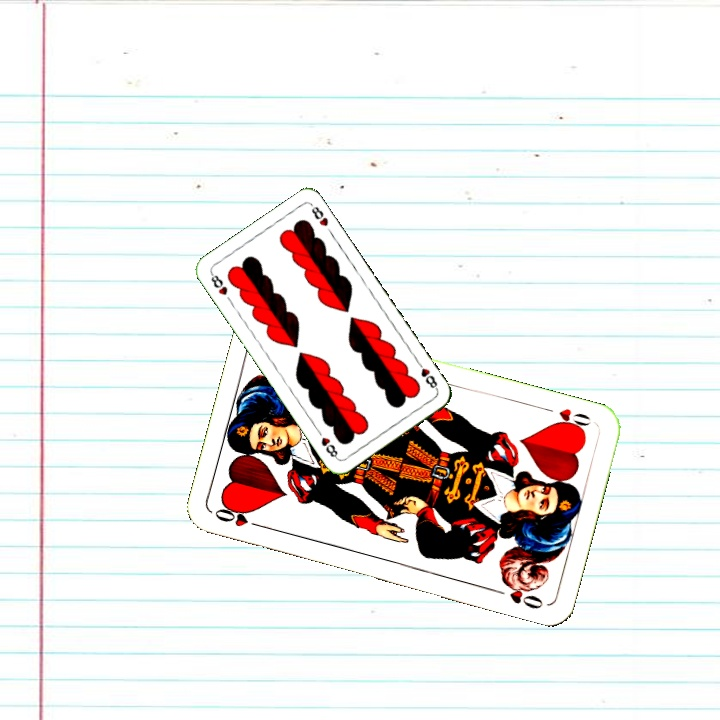H8: (413, 357, 441, 393), (206, 269, 230, 298)
HO: (538, 403, 593, 434), (210, 502, 268, 531)
